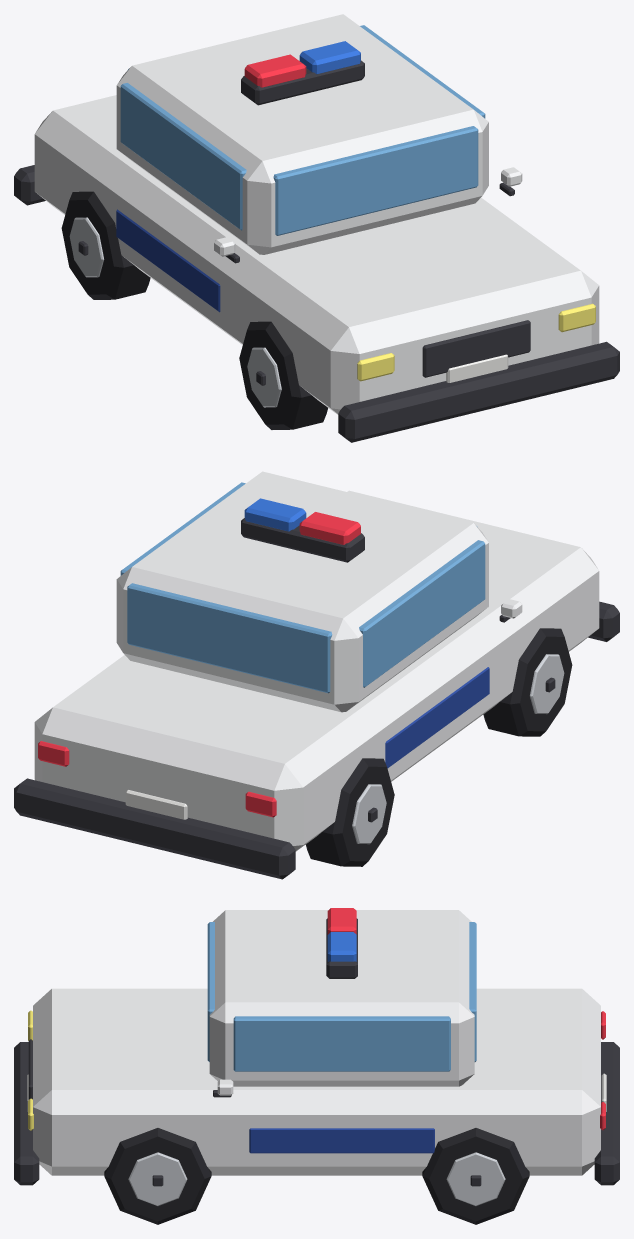
File: PoliceCar.fbx
The picture shows the model from 3 angles, top to bottom: view 1: azimuth 30°, elevation 25°; view 2: azimuth 150°, elevation 25°; view 3: azimuth 270°, elevation 25°; orthographic projection. The views are drawn at different scales.
Visible parts, largest first — view 1: PoliceCar, PoliceCar_WheelFR, PoliceCar_WheelBR; view 2: PoliceCar, PoliceCar_WheelBR, PoliceCar_WheelFR; view 3: PoliceCar, PoliceCar_WheelFL, PoliceCar_WheelBL.
Boxes of the visible parts, <box> form: PoliceCar: <box>14,14,619,442</box>; PoliceCar_WheelFR: <box>239,321,327,429</box>; PoliceCar_WheelBR: <box>61,191,150,299</box>; PoliceCar: <box>14,471,619,879</box>; PoliceCar_WheelBR: <box>305,758,394,866</box>; PoliceCar_WheelFR: <box>483,628,572,736</box>; PoliceCar: <box>14,908,619,1185</box>; PoliceCar_WheelFL: <box>104,1128,211,1224</box>; PoliceCar_WheelBL: <box>422,1128,529,1224</box>.
Size of the model in its own units: 4.95 by 4.14 by 9.6.
Materials: 1 (1 with a texture image).
